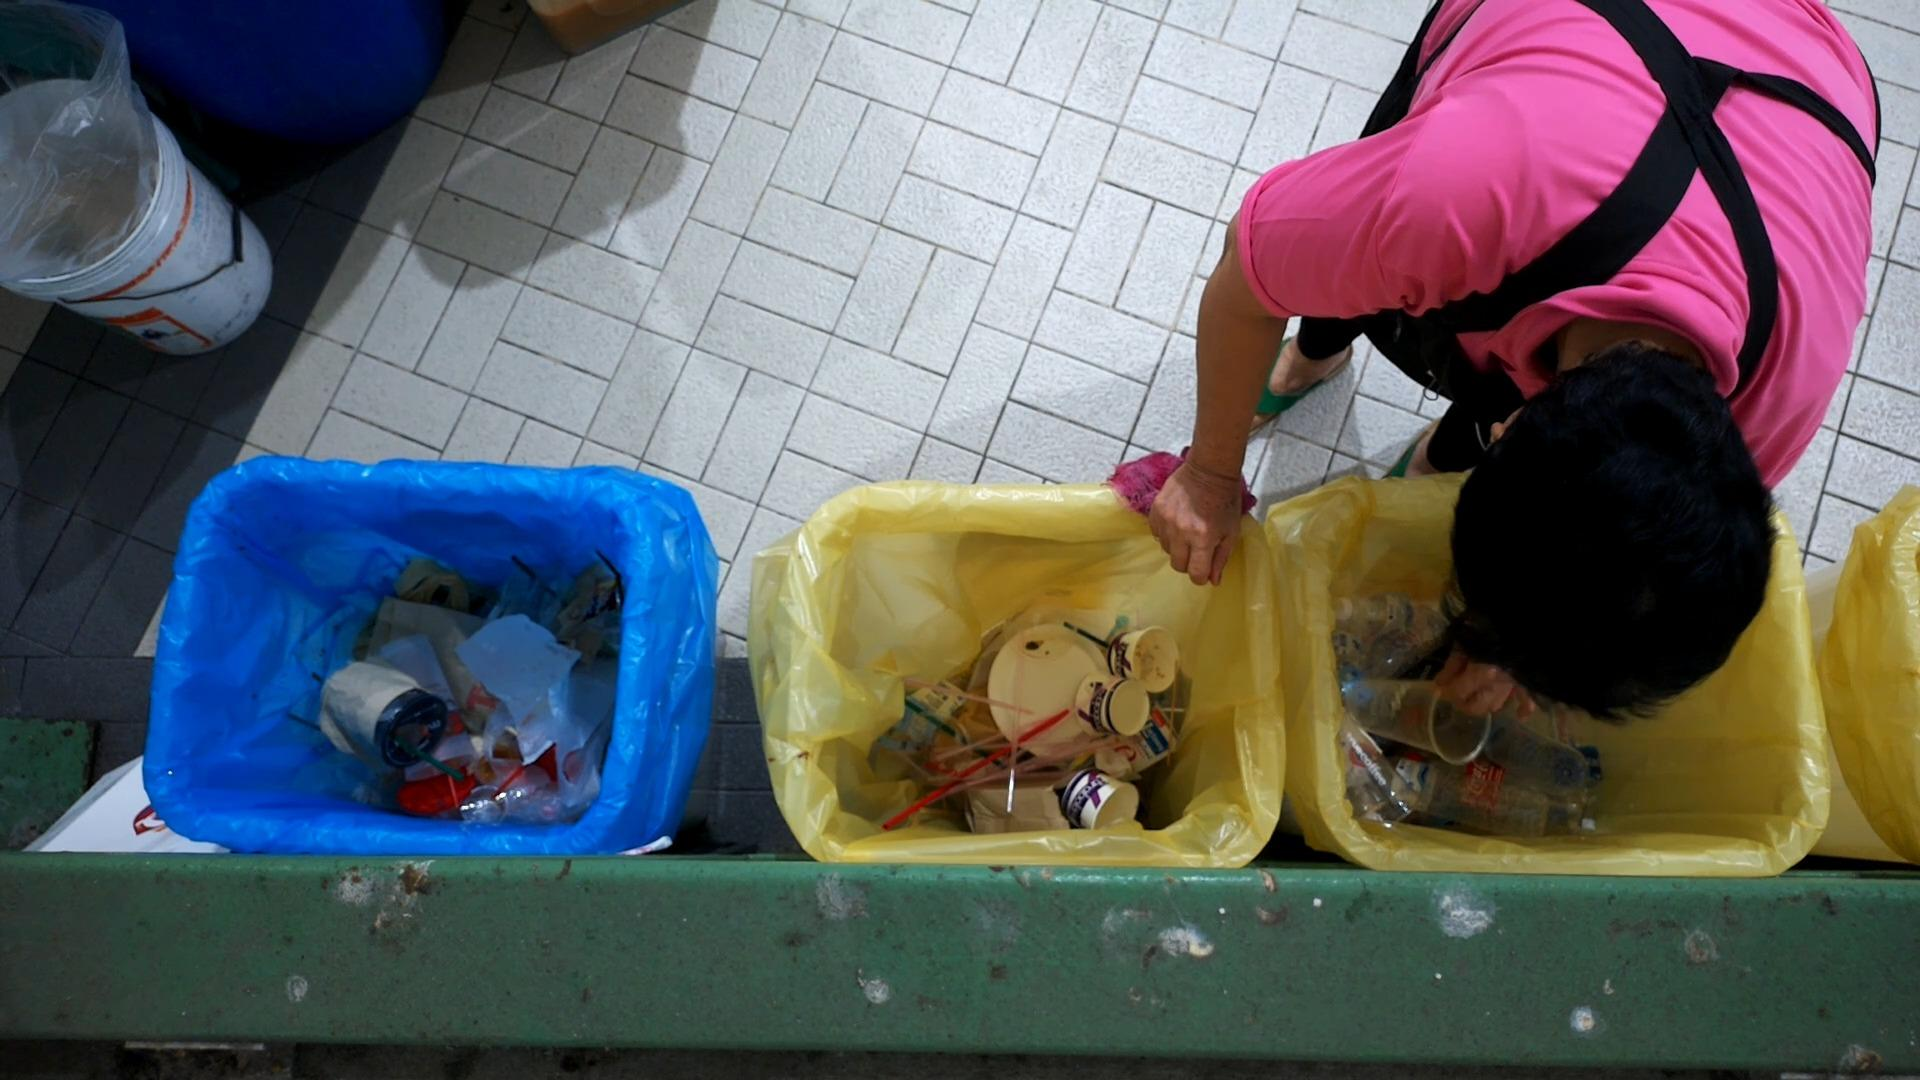food container: (993, 622, 1121, 762), (1056, 762, 1143, 835), (1083, 667, 1159, 748), (1112, 624, 1183, 698)
milk carton: (1089, 704, 1185, 785)
plastic bottle: (1352, 753, 1556, 849), (1474, 703, 1552, 807), (1336, 585, 1448, 638)
plastic cup: (1325, 696, 1427, 839), (1342, 674, 1493, 769), (318, 666, 443, 773)
snack packaging: (884, 670, 977, 765)
straw: (886, 705, 1071, 831), (920, 742, 1079, 796), (393, 736, 459, 778), (591, 547, 622, 603), (510, 553, 543, 587)
tissue paper: (451, 612, 597, 749), (1065, 737, 1131, 778)
